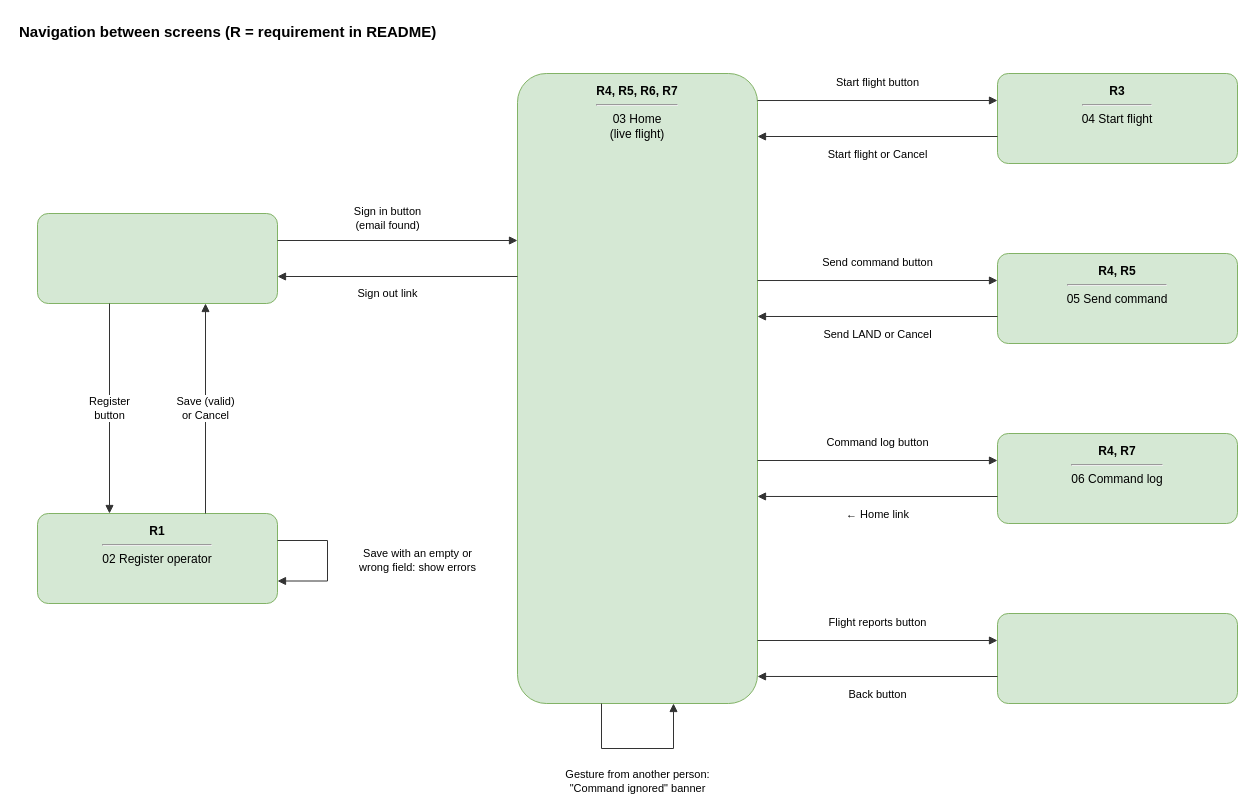
Some shapes in this 1255 by 811 pixel diagram are drawn without their labels. The shapes that lost their labels are listed below. From the top down, each one's centre as x and y in pixels, then its label:
point 157,258: R1 01 Sign in
point 1117,658: R8 07 Flight reports
